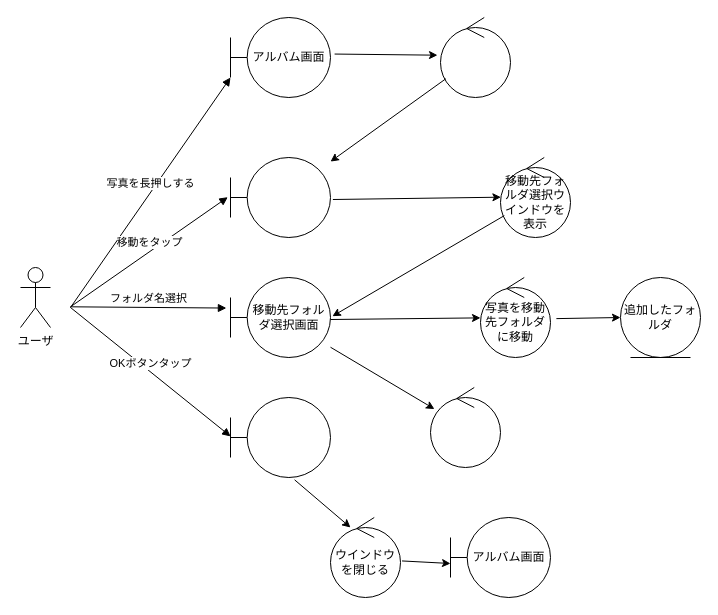
Image size: 718x615. Some labels were removed from this diagram. Each missing label, with the centre of its shape:
"削除or移動選択ウインドウ" goes at point (280, 197).
"削除or移動選択ウインドウを表示" goes at point (475, 57).
"移動完了画面表示" goes at point (465, 427).
"移動完了確認画面" goes at point (280, 437).
